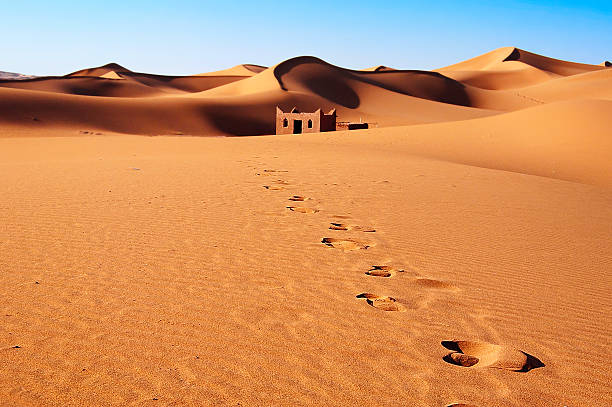animal_footprint: (441, 340, 544, 371), (356, 293, 405, 311), (321, 237, 372, 250), (415, 278, 458, 290), (365, 265, 403, 276), (329, 222, 375, 231), (286, 206, 318, 213), (288, 195, 309, 201), (263, 185, 284, 190), (263, 169, 288, 172)
